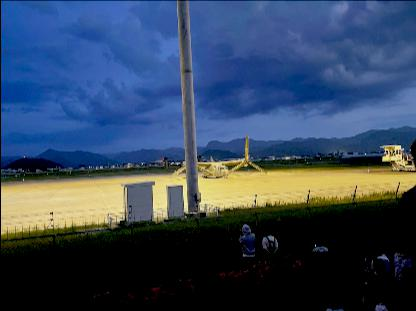Tornado: (169, 135, 268, 179), (156, 154, 210, 174)
